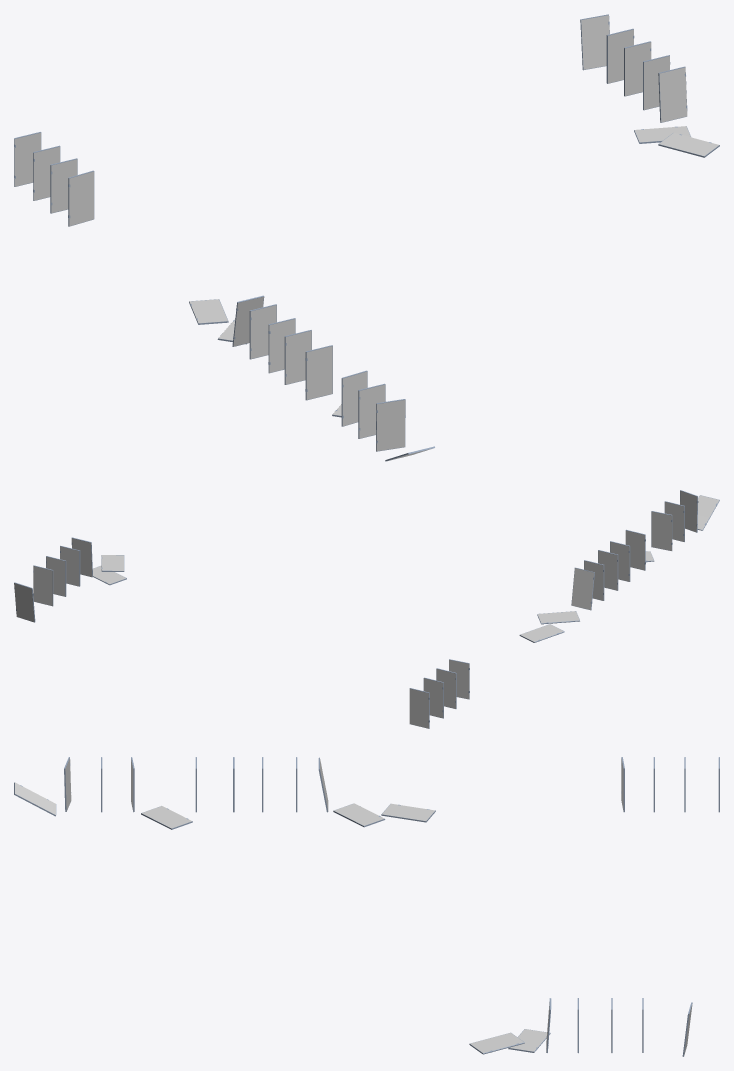
Rendered from SM_H_Building_Tide_Bathhouse_04I_ATLAS.fbx.
The picture shows the model from 3 angles, top to bottom: view 1: azimuth 30°, elevation 25°; view 2: azimuth 150°, elevation 25°; view 3: azimuth 270°, elevation 25°; orthographic projection. The views are drawn at different scales.
Parts seen in each view (by area): view 1: SM_H_Building_Tide_Bathhouse_04I_ATLAS; view 2: SM_H_Building_Tide_Bathhouse_04I_ATLAS; view 3: SM_H_Building_Tide_Bathhouse_04I_ATLAS.
Part boxes in pixels (x1,y1,x2,y2): SM_H_Building_Tide_Bathhouse_04I_ATLAS: (14,14,719,461); SM_H_Building_Tide_Bathhouse_04I_ATLAS: (14,490,719,728); SM_H_Building_Tide_Bathhouse_04I_ATLAS: (14,757,719,1056).
Size of the model in its own units: 3079 by 3633 by 268.
